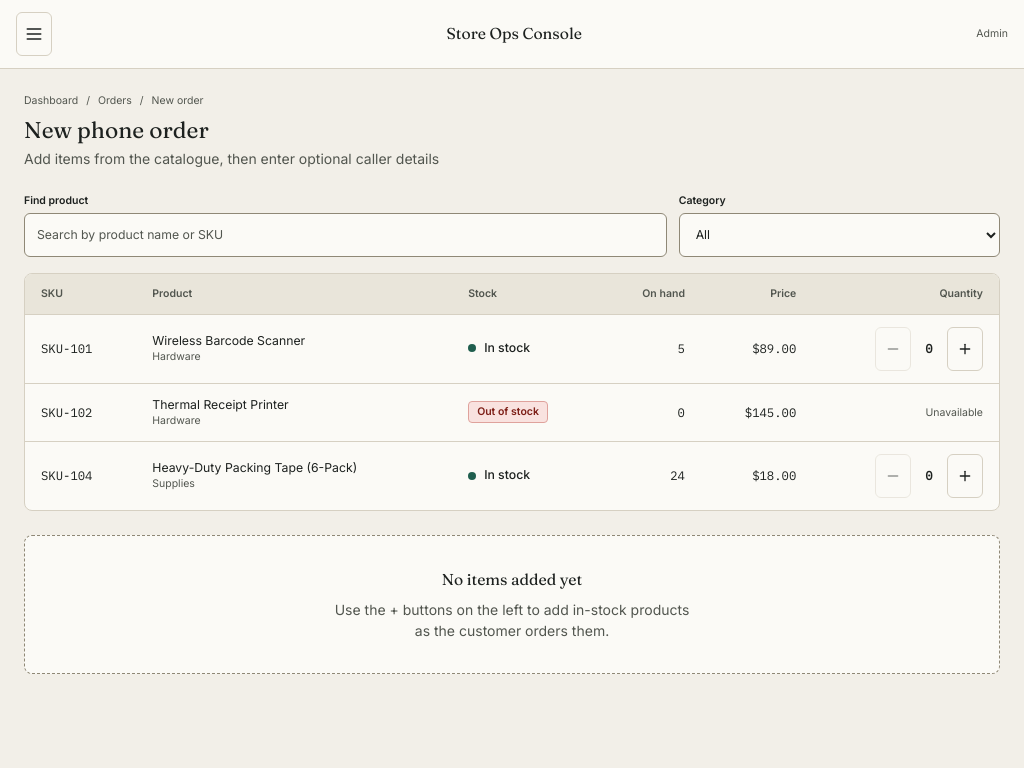
Test: Store Ops Console UI (React Testing Library) › builds an order draft on /app/orders/new, validates phone inline, and submits
Later steps or results of the test are not shown.
Check: the heading "No items added yet" is shown, box [442,568,582,591]
Click the button named "Increase quantity for Wireless Barcode Scanner" at (965, 348), box [947,326,983,370]
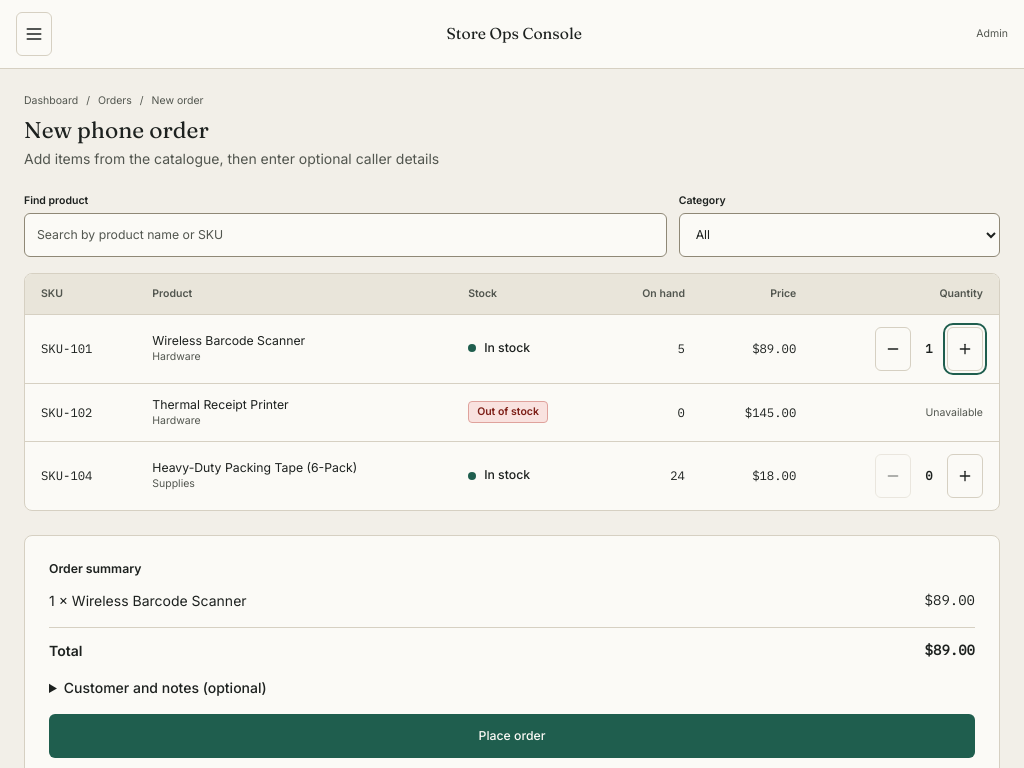
Check: the button "Place order" is shown, box [49,714,975,758]
Click the heading "Customer and notes (optional)" at (165, 688), box [64,679,267,696]
(page scrolled)
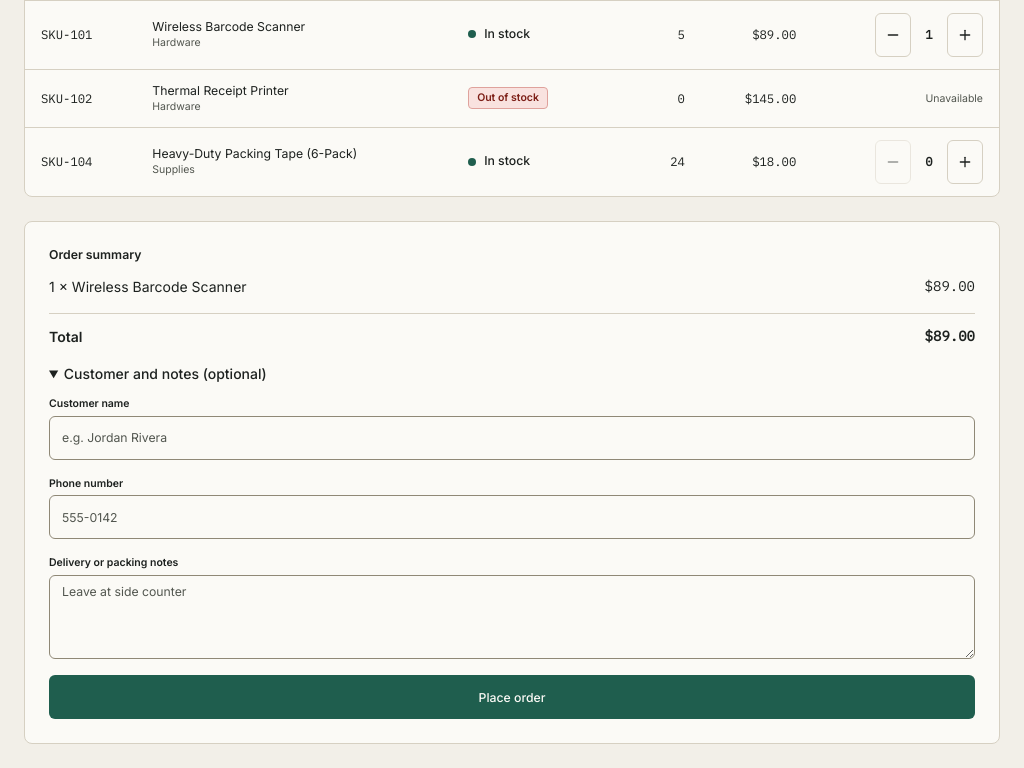
Type "bad!" into the field labelled "Phone number" at (512, 518), box [49,496,975,540]
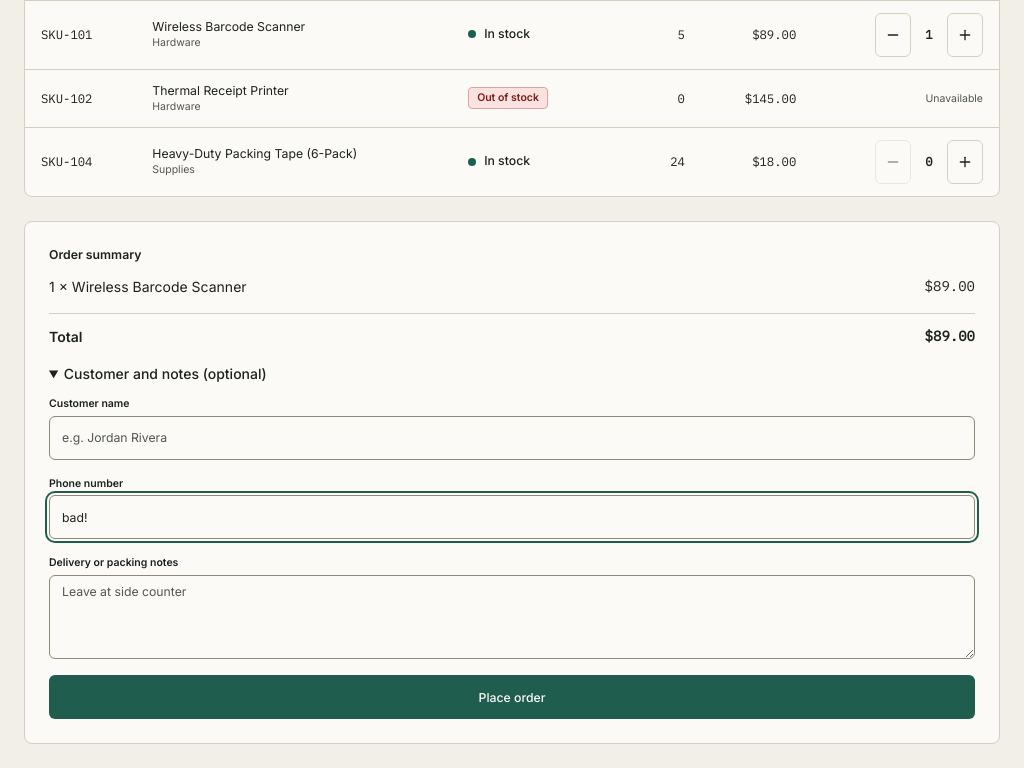
Press Tab
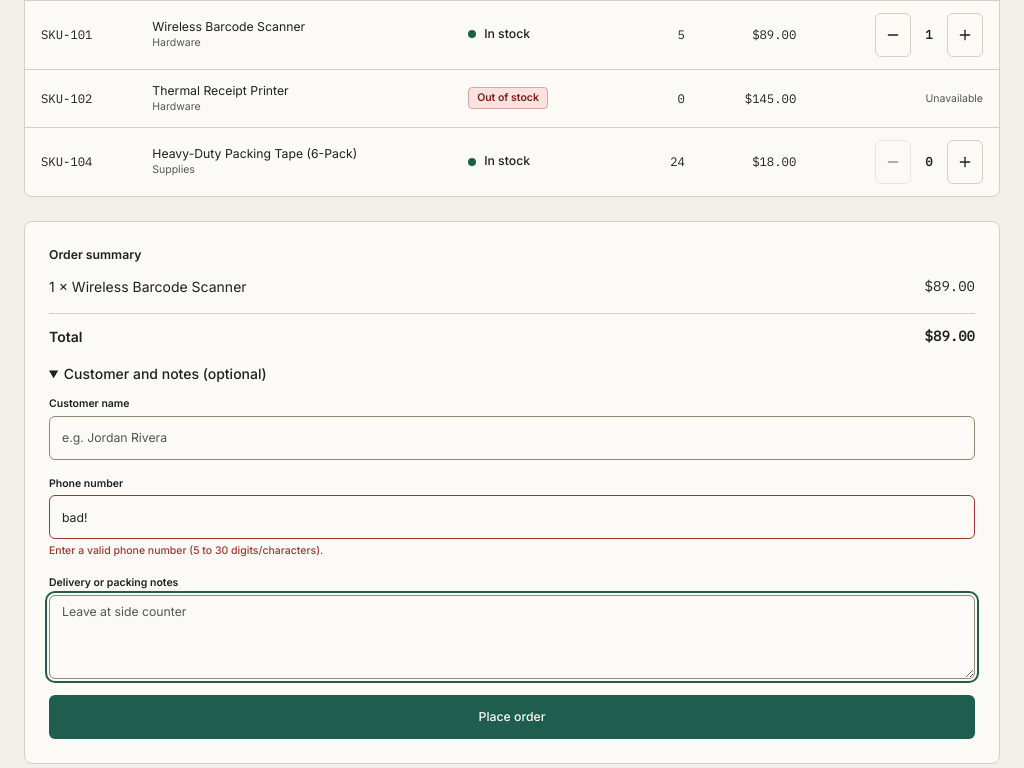
Check: the text "Enter a valid phone number (5 to 30 digits/characters)." is shown, box [49,544,323,558]
